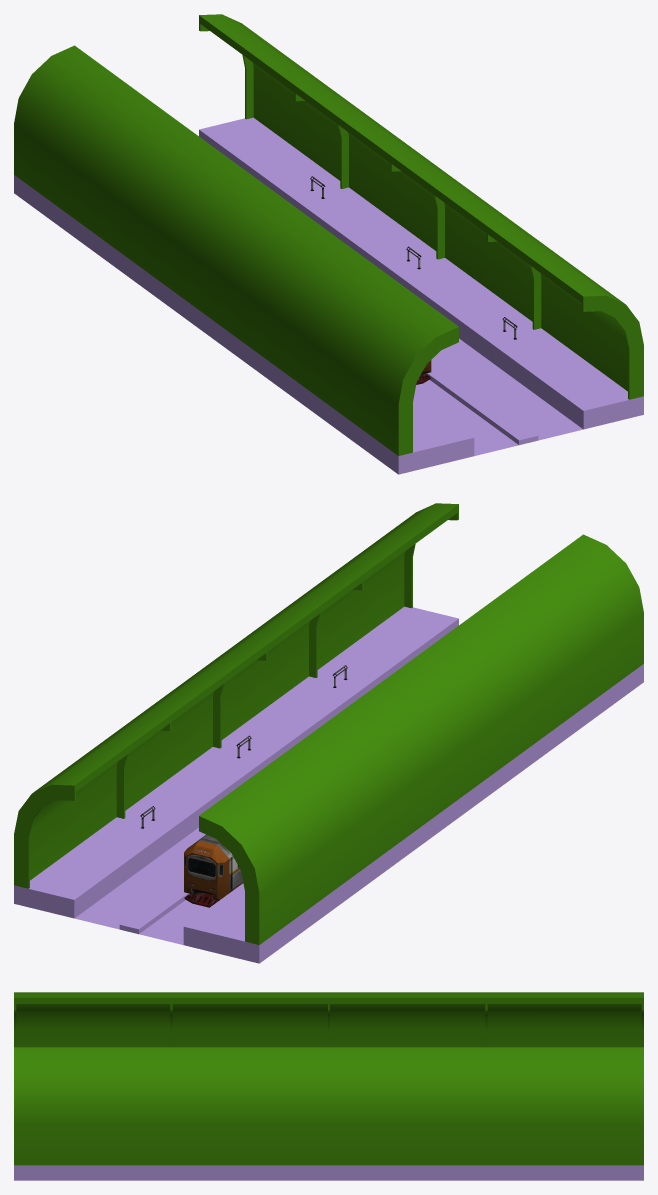
The model's file is Train_Station.obj.
The picture shows the model from 3 angles, top to bottom: view 1: azimuth 30°, elevation 25°; view 2: azimuth 150°, elevation 25°; view 3: azimuth 270°, elevation 25°; orthographic projection. The views are drawn at different scales.
Parts seen in each view (by area): view 1: Pillar_Wall001, Base_Station, Pillar_Wall; view 2: Pillar_Wall001, Base_Station, Pillar_Wall, Train; view 3: Pillar_Wall, Pillar_Wall001, Base_Station.
Part boxes in pixels (bbox=[...]): Pillar_Wall001: bbox=[14, 45, 458, 455]; Base_Station: bbox=[14, 117, 643, 474]; Pillar_Wall: bbox=[199, 14, 643, 399]; Pillar_Wall001: bbox=[199, 534, 643, 944]; Base_Station: bbox=[14, 606, 643, 963]; Pillar_Wall: bbox=[14, 503, 458, 888]; Train: bbox=[184, 834, 243, 907]; Pillar_Wall: bbox=[14, 1047, 643, 1165]; Pillar_Wall001: bbox=[14, 992, 643, 1047]; Base_Station: bbox=[14, 1165, 643, 1180].
Size of the model in its own units: 25.18 by 13.04 by 68.31.
